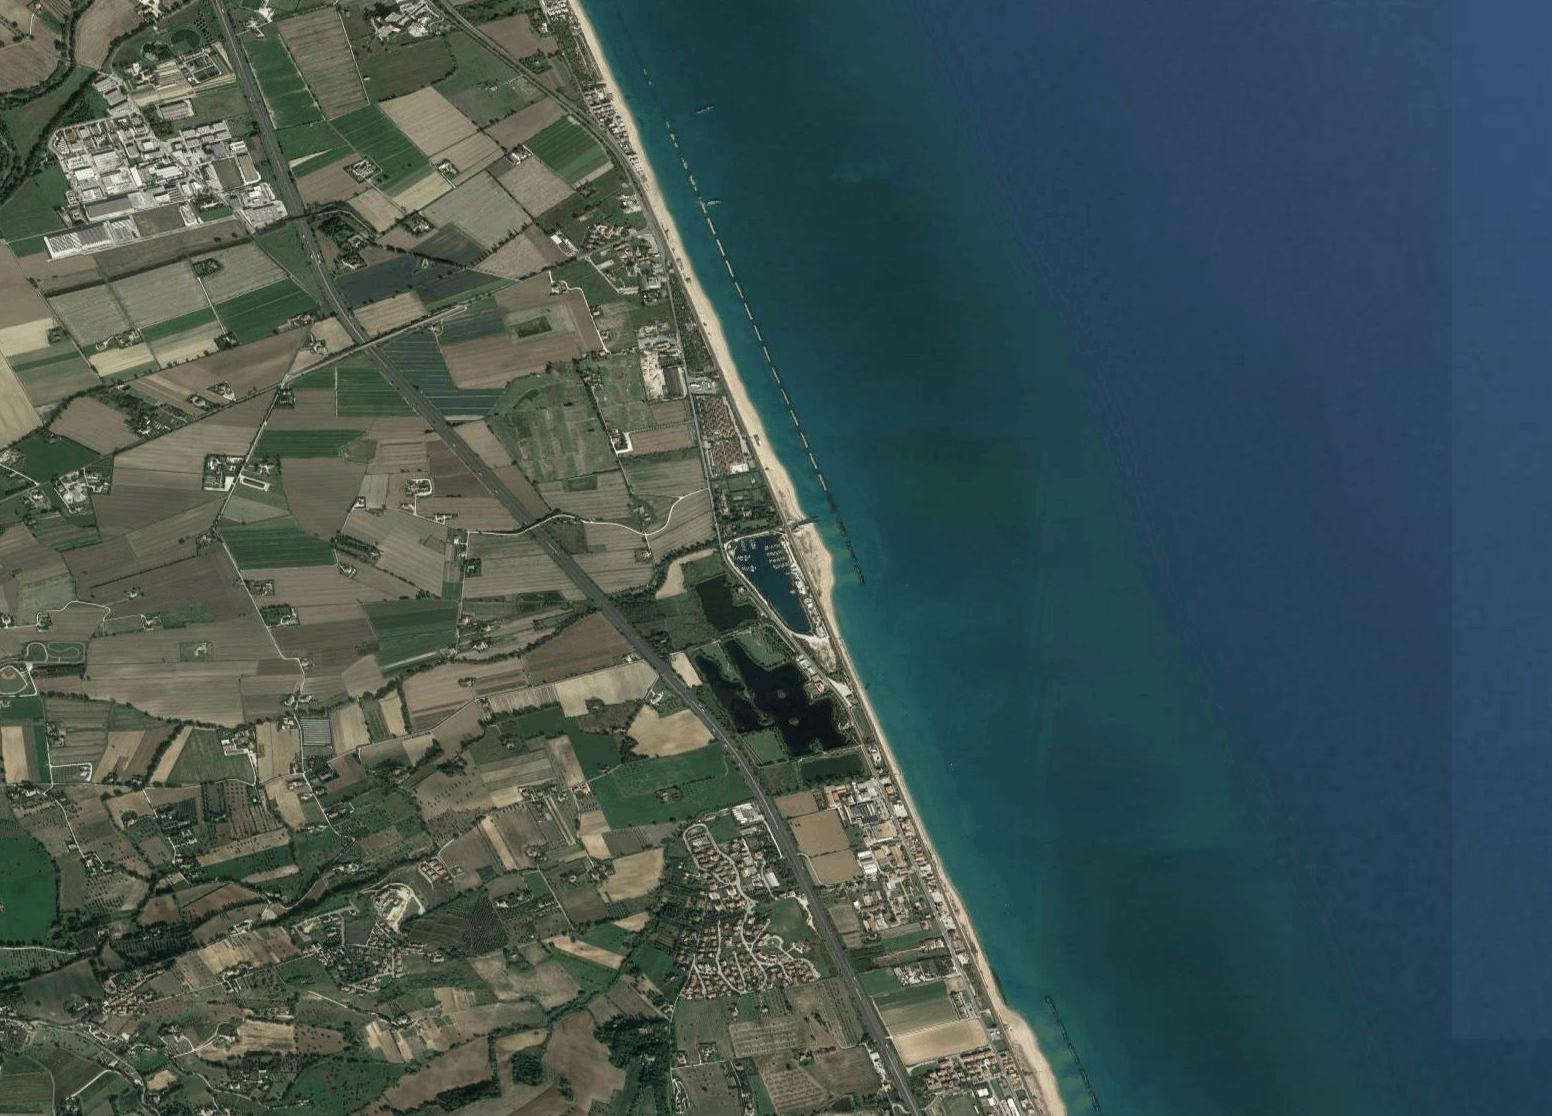harbor: (718, 512, 851, 675)
industrial: (39, 92, 274, 251)
motorway: (835, 945, 924, 1116), (749, 773, 837, 945), (543, 538, 656, 653), (656, 654, 760, 771), (449, 444, 546, 538), (369, 343, 453, 444), (307, 234, 368, 345), (257, 121, 313, 236), (208, 1, 265, 116)
